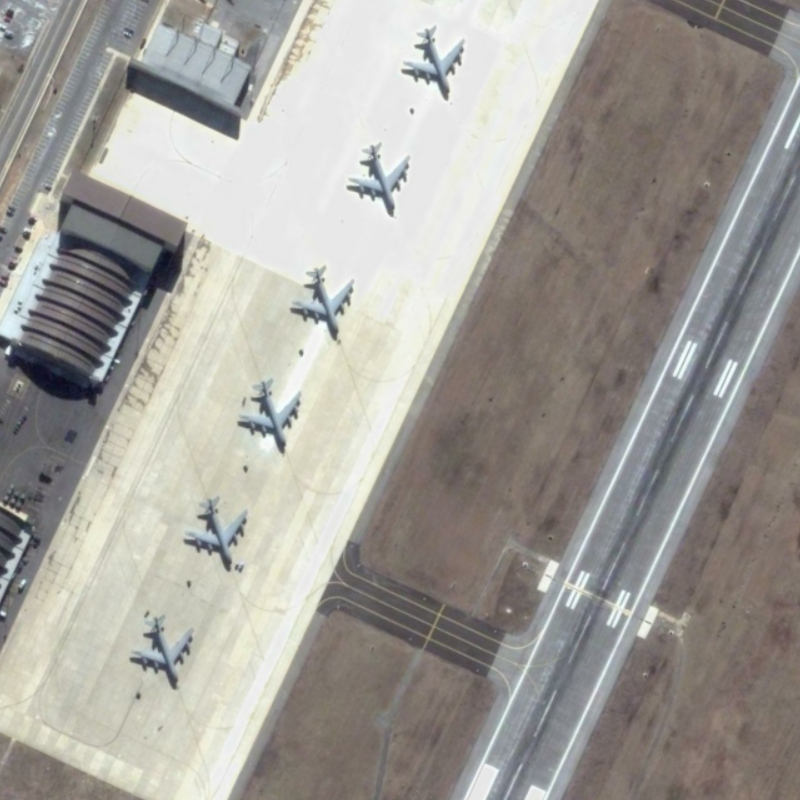A14: (399, 22, 473, 103), (346, 136, 414, 216), (181, 492, 251, 569), (288, 264, 358, 340), (126, 611, 196, 687), (237, 376, 306, 449)
